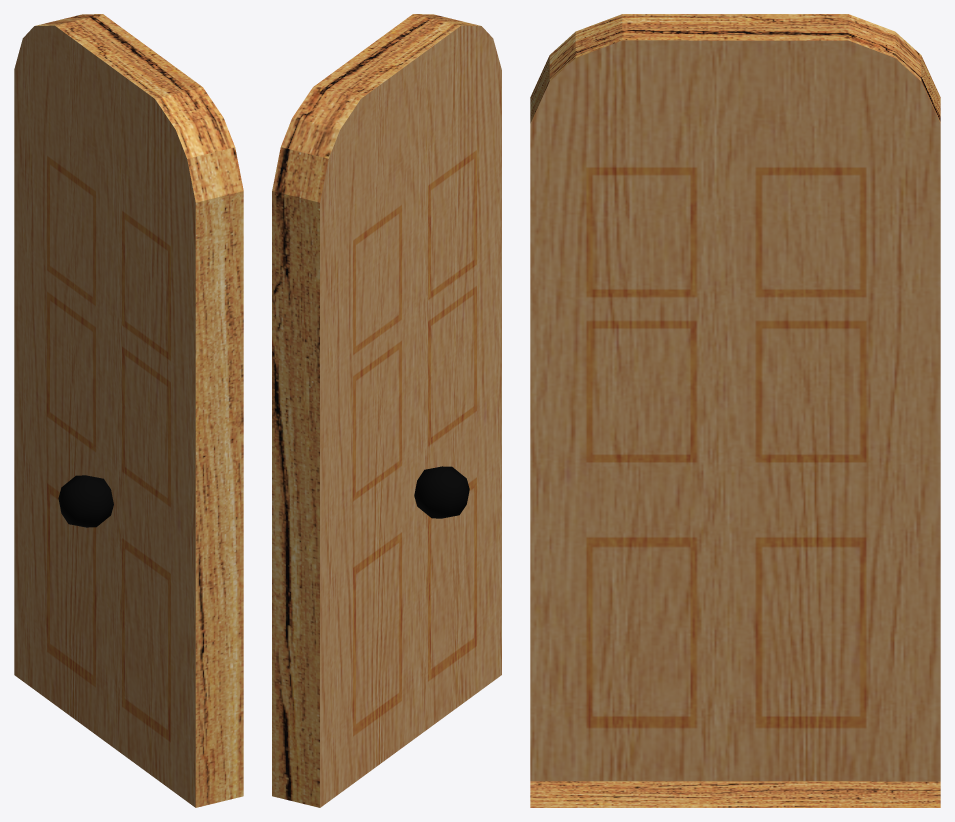
Rendered from door.FBX.
The picture shows the model from 3 angles, left to right: view 1: azimuth 30°, elevation 25°; view 2: azimuth 150°, elevation 25°; view 3: azimuth 270°, elevation 25°; orthographic projection. The views are drawn at different scales.
Visible parts, largest first — view 1: door; view 2: door; view 3: door.
Part boxes in pixels (box(x1,y1,x2,y2)): door: box(14, 14, 243, 807); door: box(272, 14, 501, 807); door: box(530, 14, 940, 807).
Size of the model in its own units: 2.26 by 14.96 by 7.25.
